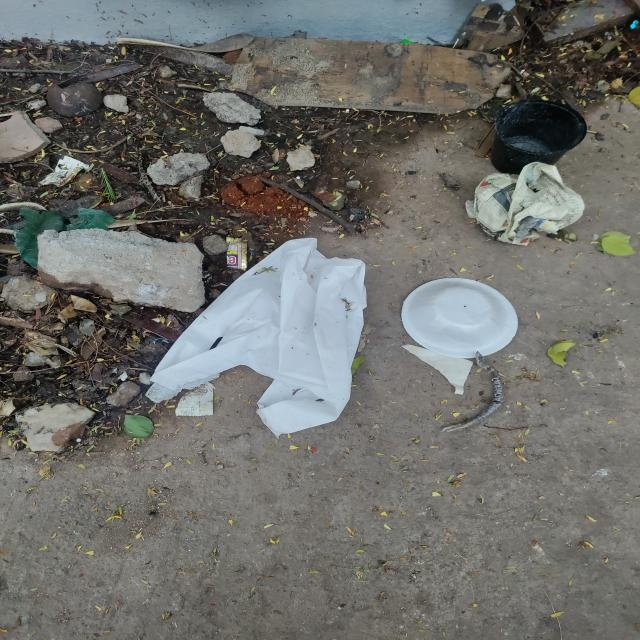paper: (395, 267, 532, 363), (462, 175, 601, 240)
plastic: (181, 244, 358, 437), (476, 86, 600, 169)
